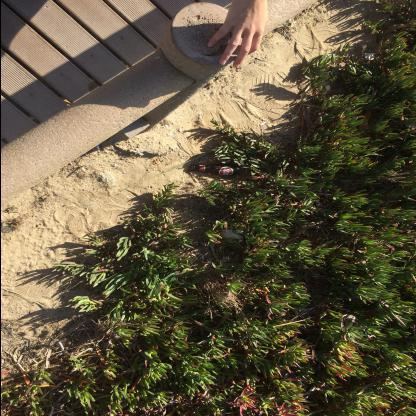cam: (191, 166, 240, 176)
